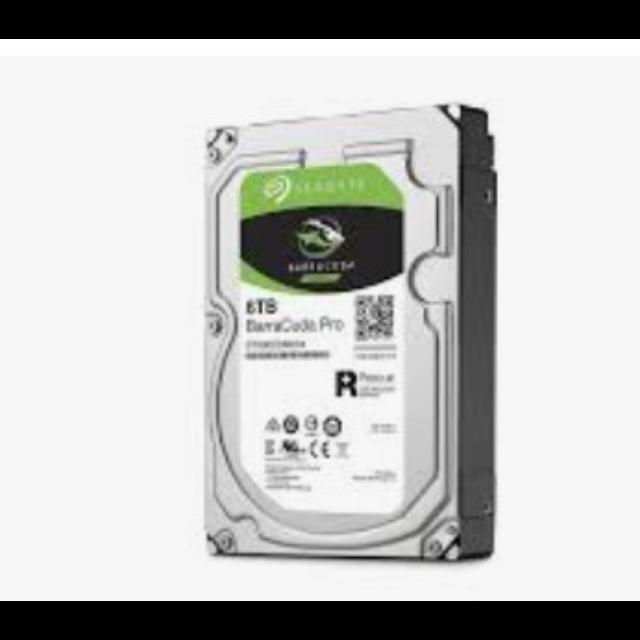HDD: (196, 102, 496, 564)
